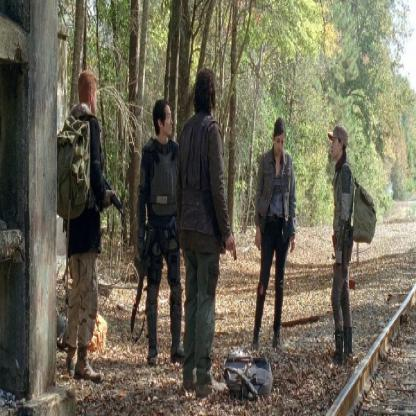Guns: (128, 216, 150, 337), (100, 169, 123, 217), (222, 228, 238, 262)
